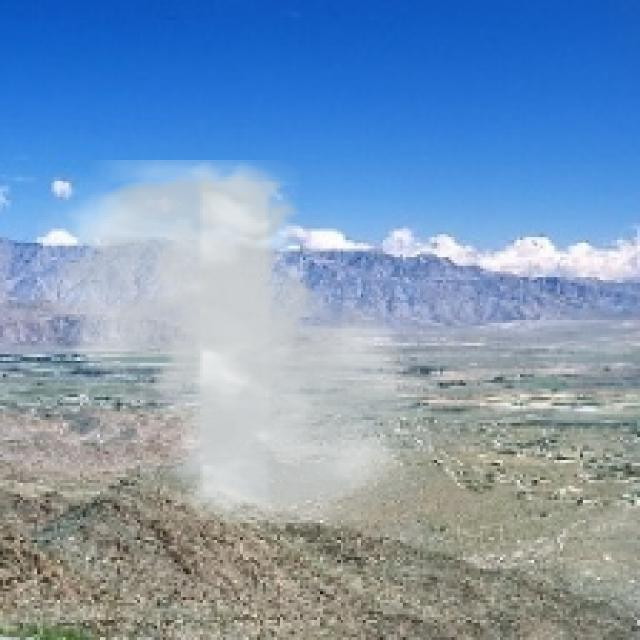smoke: (37, 160, 432, 523)
